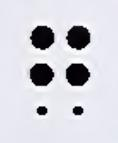one_cell_alphabet_ganoon: (30, 25, 91, 117)
